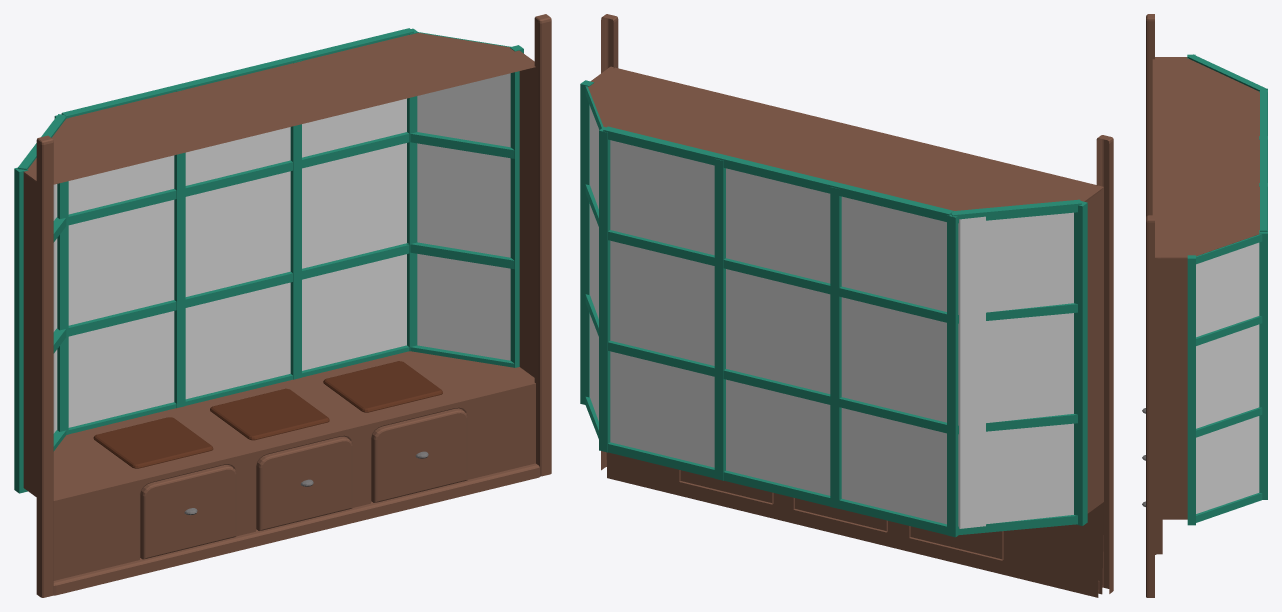
Rendered from Shop_FrontPanel.fbx.
3 renders of one model, left to right at view 1: azimuth 30°, elevation 25°; view 2: azimuth 150°, elevation 25°; view 3: azimuth 270°, elevation 25°, orthographic. The views are drawn at different scales.
Parts seen in each view (by area): view 1: FrontPanel; view 2: FrontPanel; view 3: FrontPanel.
Part boxes in pixels (x1,y1,x2,y2): FrontPanel: (14,14,551,597); FrontPanel: (580,14,1113,597); FrontPanel: (1142,14,1267,597).
Bounding box in the file's own units: 436 × 375 × 112.
